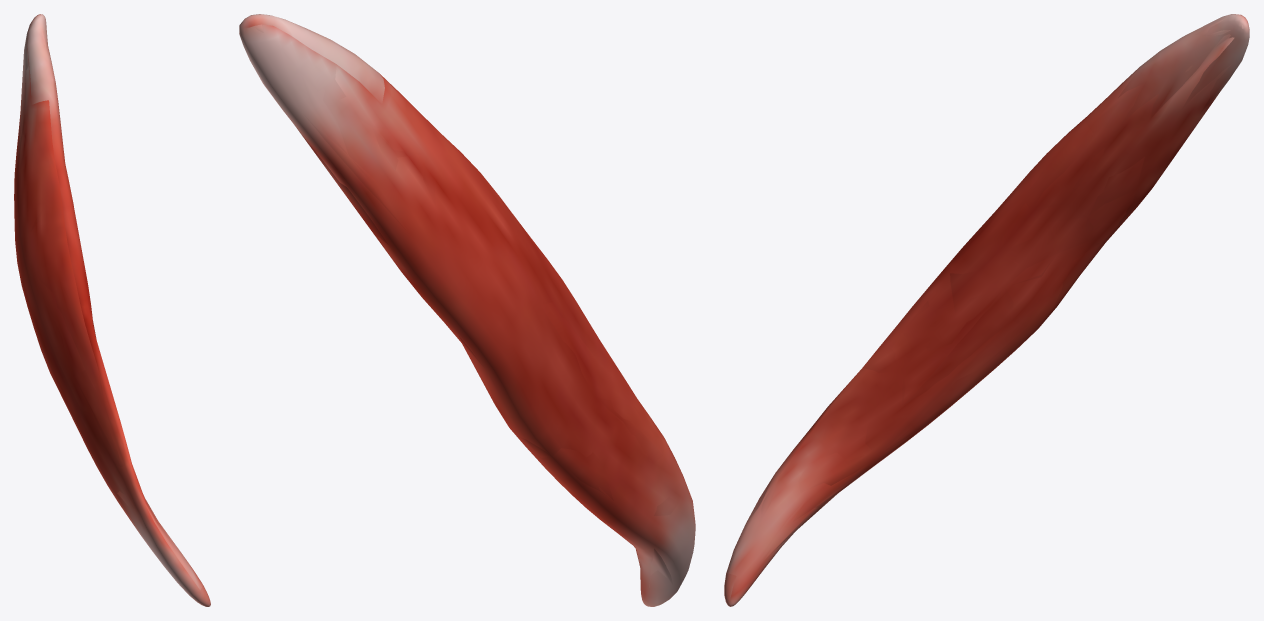
Rendered from R Deltoideus.fbx.
3 renders of one model, left to right at view 1: azimuth 30°, elevation 25°; view 2: azimuth 150°, elevation 25°; view 3: azimuth 270°, elevation 25°, orthographic. The views are drawn at different scales.
Visible parts, largest first — view 1: R Deltoideus, R Deltoideus low; view 2: R Deltoideus, R Deltoideus low; view 3: R Deltoideus, R Deltoideus low.
Part boxes in pixels (box(x1,y1,x2,y2)): R Deltoideus: box(14, 14, 210, 606); R Deltoideus low: box(18, 15, 210, 602); R Deltoideus: box(239, 14, 695, 606); R Deltoideus low: box(254, 24, 678, 587); R Deltoideus: box(724, 14, 1249, 606); R Deltoideus low: box(728, 17, 1243, 600).
Bounding box in the file's own units: 7.6 × 37.99 × 29.96.
